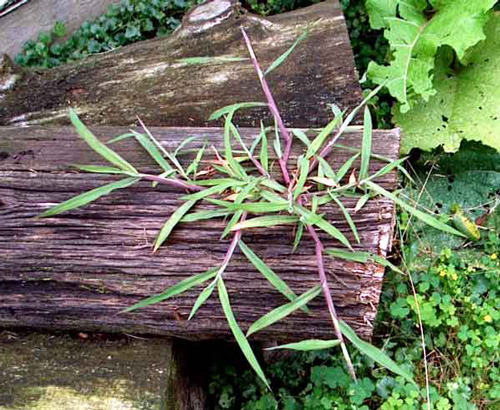crabgrass: (95, 106, 387, 282)
